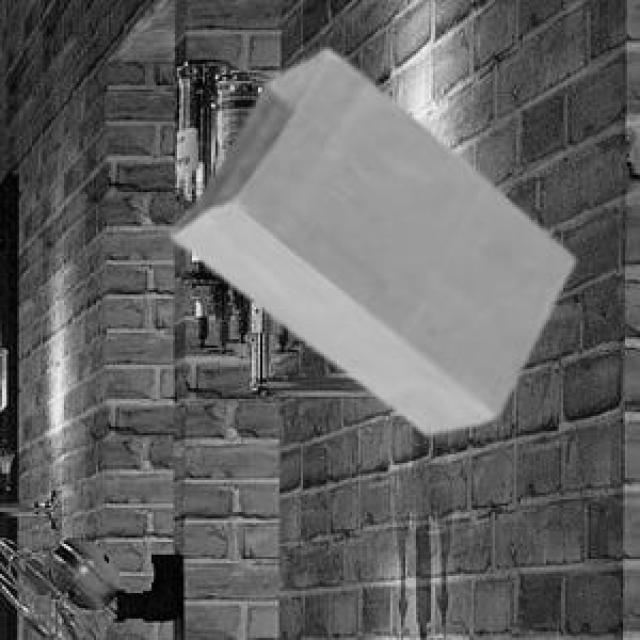paper: (169, 47, 570, 429)
